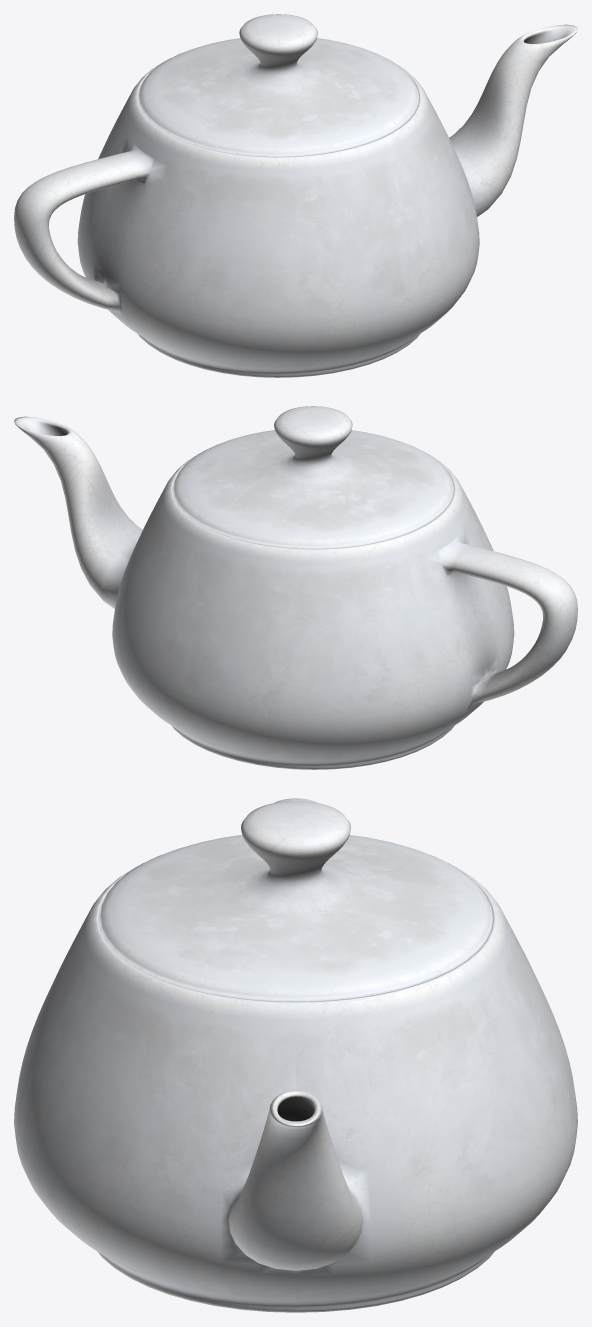
The model's file is teapot.glb.
3 renders of one model, top to bottom at view 1: azimuth 30°, elevation 25°; view 2: azimuth 150°, elevation 25°; view 3: azimuth 270°, elevation 25°, orthographic. The views are drawn at different scales.
Parts seen in each view (by area): view 1: UtahTeapot_low; view 2: UtahTeapot_low; view 3: UtahTeapot_low.
Boxes of the visible parts, <box> form: UtahTeapot_low: <box>14,14,577,377</box>; UtahTeapot_low: <box>14,406,577,769</box>; UtahTeapot_low: <box>14,798,577,1312</box>.
Bounding box in the file's own units: 195 × 100 × 121.
Materials: 1 (1 with a texture image).
